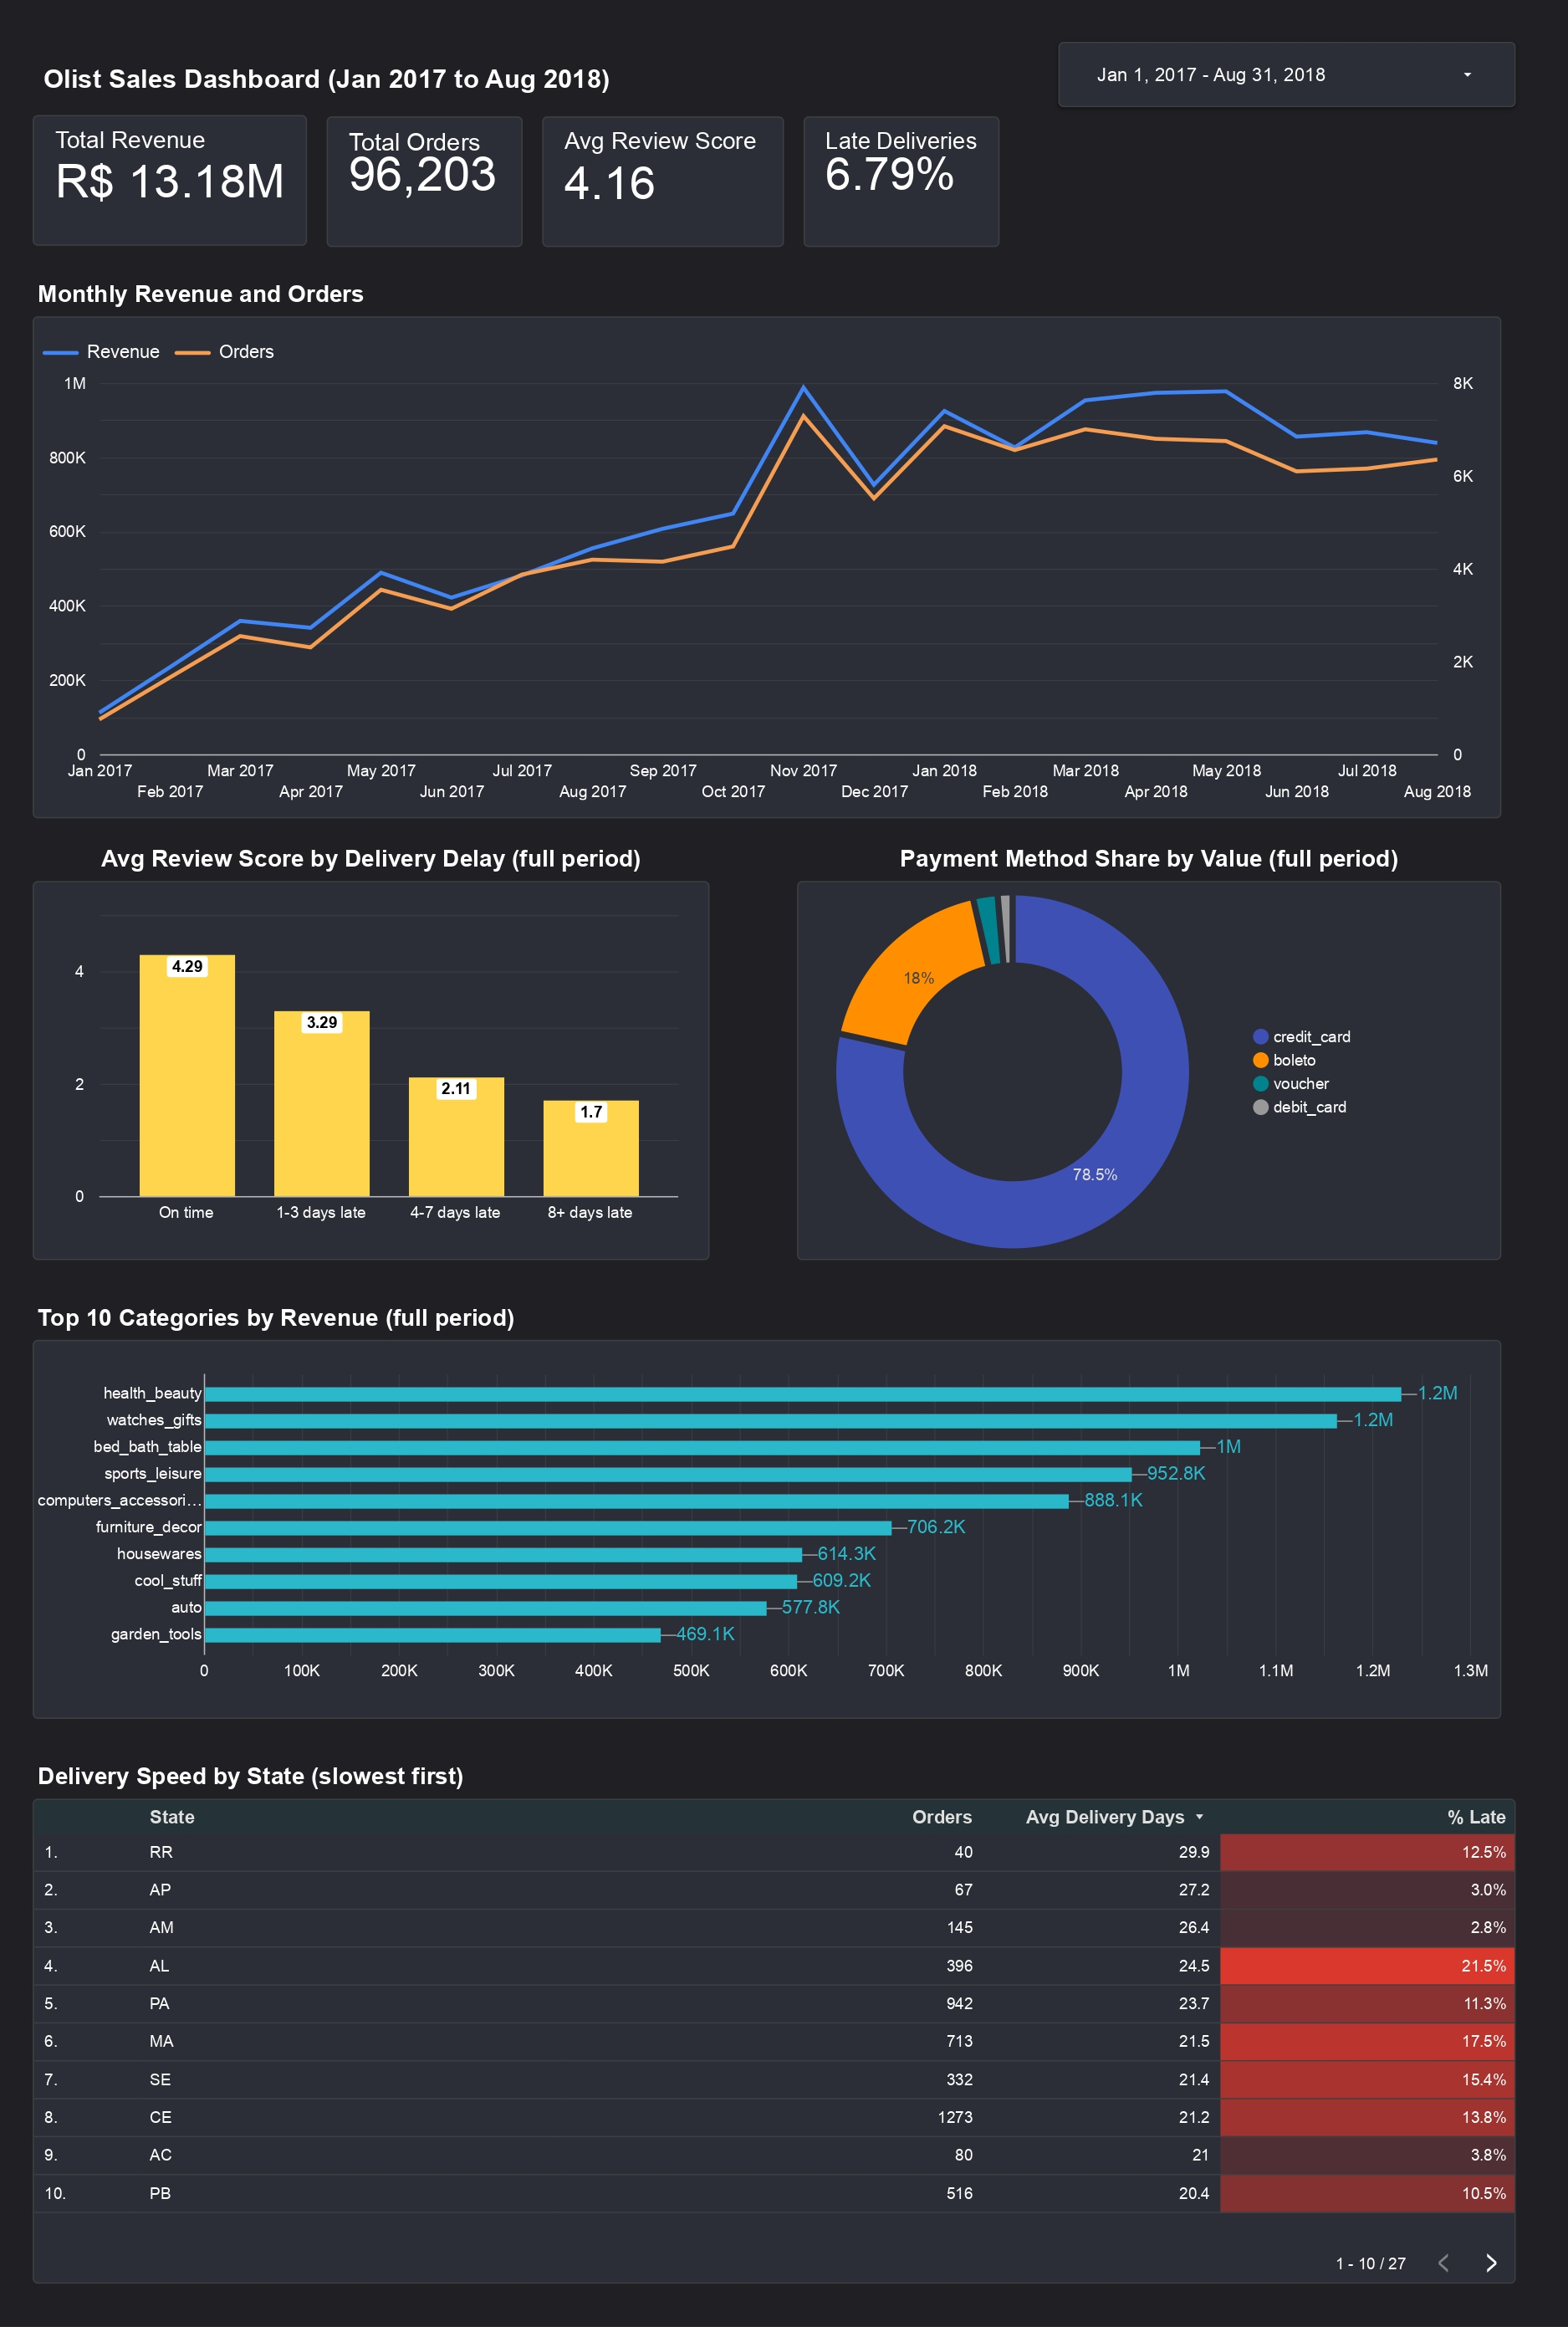

The dashboard page shown, as its layout file describes it:
{"tool":"powerbi","page":{"name":"Page 1","canvas":[1280,1300],"ordinal":0},"visuals":[{"type":"cardVisual","fields":{"Data":["orders.Total Revenue"]},"box":[15,50,185,120],"z":0},{"type":"cardVisual","fields":{"Data":["orders.Total Orders"]},"box":[215.4,50,170.8,121.4],"z":1000},{"type":"cardVisual","fields":{"Data":["orders.Avg Review"]},"box":[401.6,48.9,170.8,121.4],"z":2000},{"type":"cardVisual","fields":{"Data":["orders.Late Rate"]},"box":[587.8,48.9,172,120],"z":3000},{"type":"textbox","box":[14,0,670,46],"z":4000},{"type":"lineClusteredColumnComboChart","title":"Monthly Orders and Revenue","fields":{"Category":["orders.Order Month"],"Y":["orders.Total Orders"],"Y2":["orders.Total Revenue"]},"box":[14,184,584,306],"z":5000},{"type":"lineChart","title":"Late Delivery Rate by Month","fields":{"Category":["orders.Order Month"],"Y":["orders.Late Rate"]},"box":[624,184,634,306],"z":6000},{"type":"clusteredColumnChart","title":"Review Score by Delivery Delay","fields":{"Category":["late_reviews.delay"],"Y":["Sum(late_reviews.avg_review_score)"]},"box":[14,510,584,308],"z":7000},{"type":"clusteredBarChart","title":"Top 10 Categories by Revenue","fields":{"Category":["top_categories.category"],"Y":["Sum(top_categories.revenue)"]},"box":[624,510,634,364],"z":8000},{"type":"donutChart","title":"Payment Methods (Share of Total Paid)","fields":{"Category":["payments.payment_type"],"Y":["Sum(payments.total_paid)"]},"box":[624,906,634,376],"z":9000},{"type":"clusteredBarChart","title":"Top 10 Slowest States (Avg Delivery Days)","fields":{"Category":["states.customer_state"],"Y":["Avg(states.avg_delivery_days)"]},"box":[14,852,584,430],"z":10000},{"type":"slicer","fields":{"Values":["orders.Order Month"]},"box":[796,0,462,166],"z":11000}]}

Visuals, with their boxes on the page's 1280x1300 design canvas (x1, y1, x2, y2). These are canvas units, not pixel positions in the 1568x2327 screenshot, which may show the page scaled, cropped or inside an application window:
cardVisual - orders.Total Revenue: l=15, t=50, r=200, b=170
cardVisual - orders.Total Orders: l=215, t=50, r=386, b=171
cardVisual - orders.Avg Review: l=402, t=49, r=572, b=170
cardVisual - orders.Late Rate: l=588, t=49, r=760, b=169
textbox: l=14, t=0, r=684, b=46
"Monthly Orders and Revenue" lineClusteredColumnComboChart: l=14, t=184, r=598, b=490
"Late Delivery Rate by Month" lineChart: l=624, t=184, r=1258, b=490
"Review Score by Delivery Delay" clusteredColumnChart: l=14, t=510, r=598, b=818
"Top 10 Categories by Revenue" clusteredBarChart: l=624, t=510, r=1258, b=874
"Payment Methods (Share of Total Paid)" donutChart: l=624, t=906, r=1258, b=1282
"Top 10 Slowest States (Avg Delivery Days)" clusteredBarChart: l=14, t=852, r=598, b=1282
slicer - orders.Order Month: l=796, t=0, r=1258, b=166
